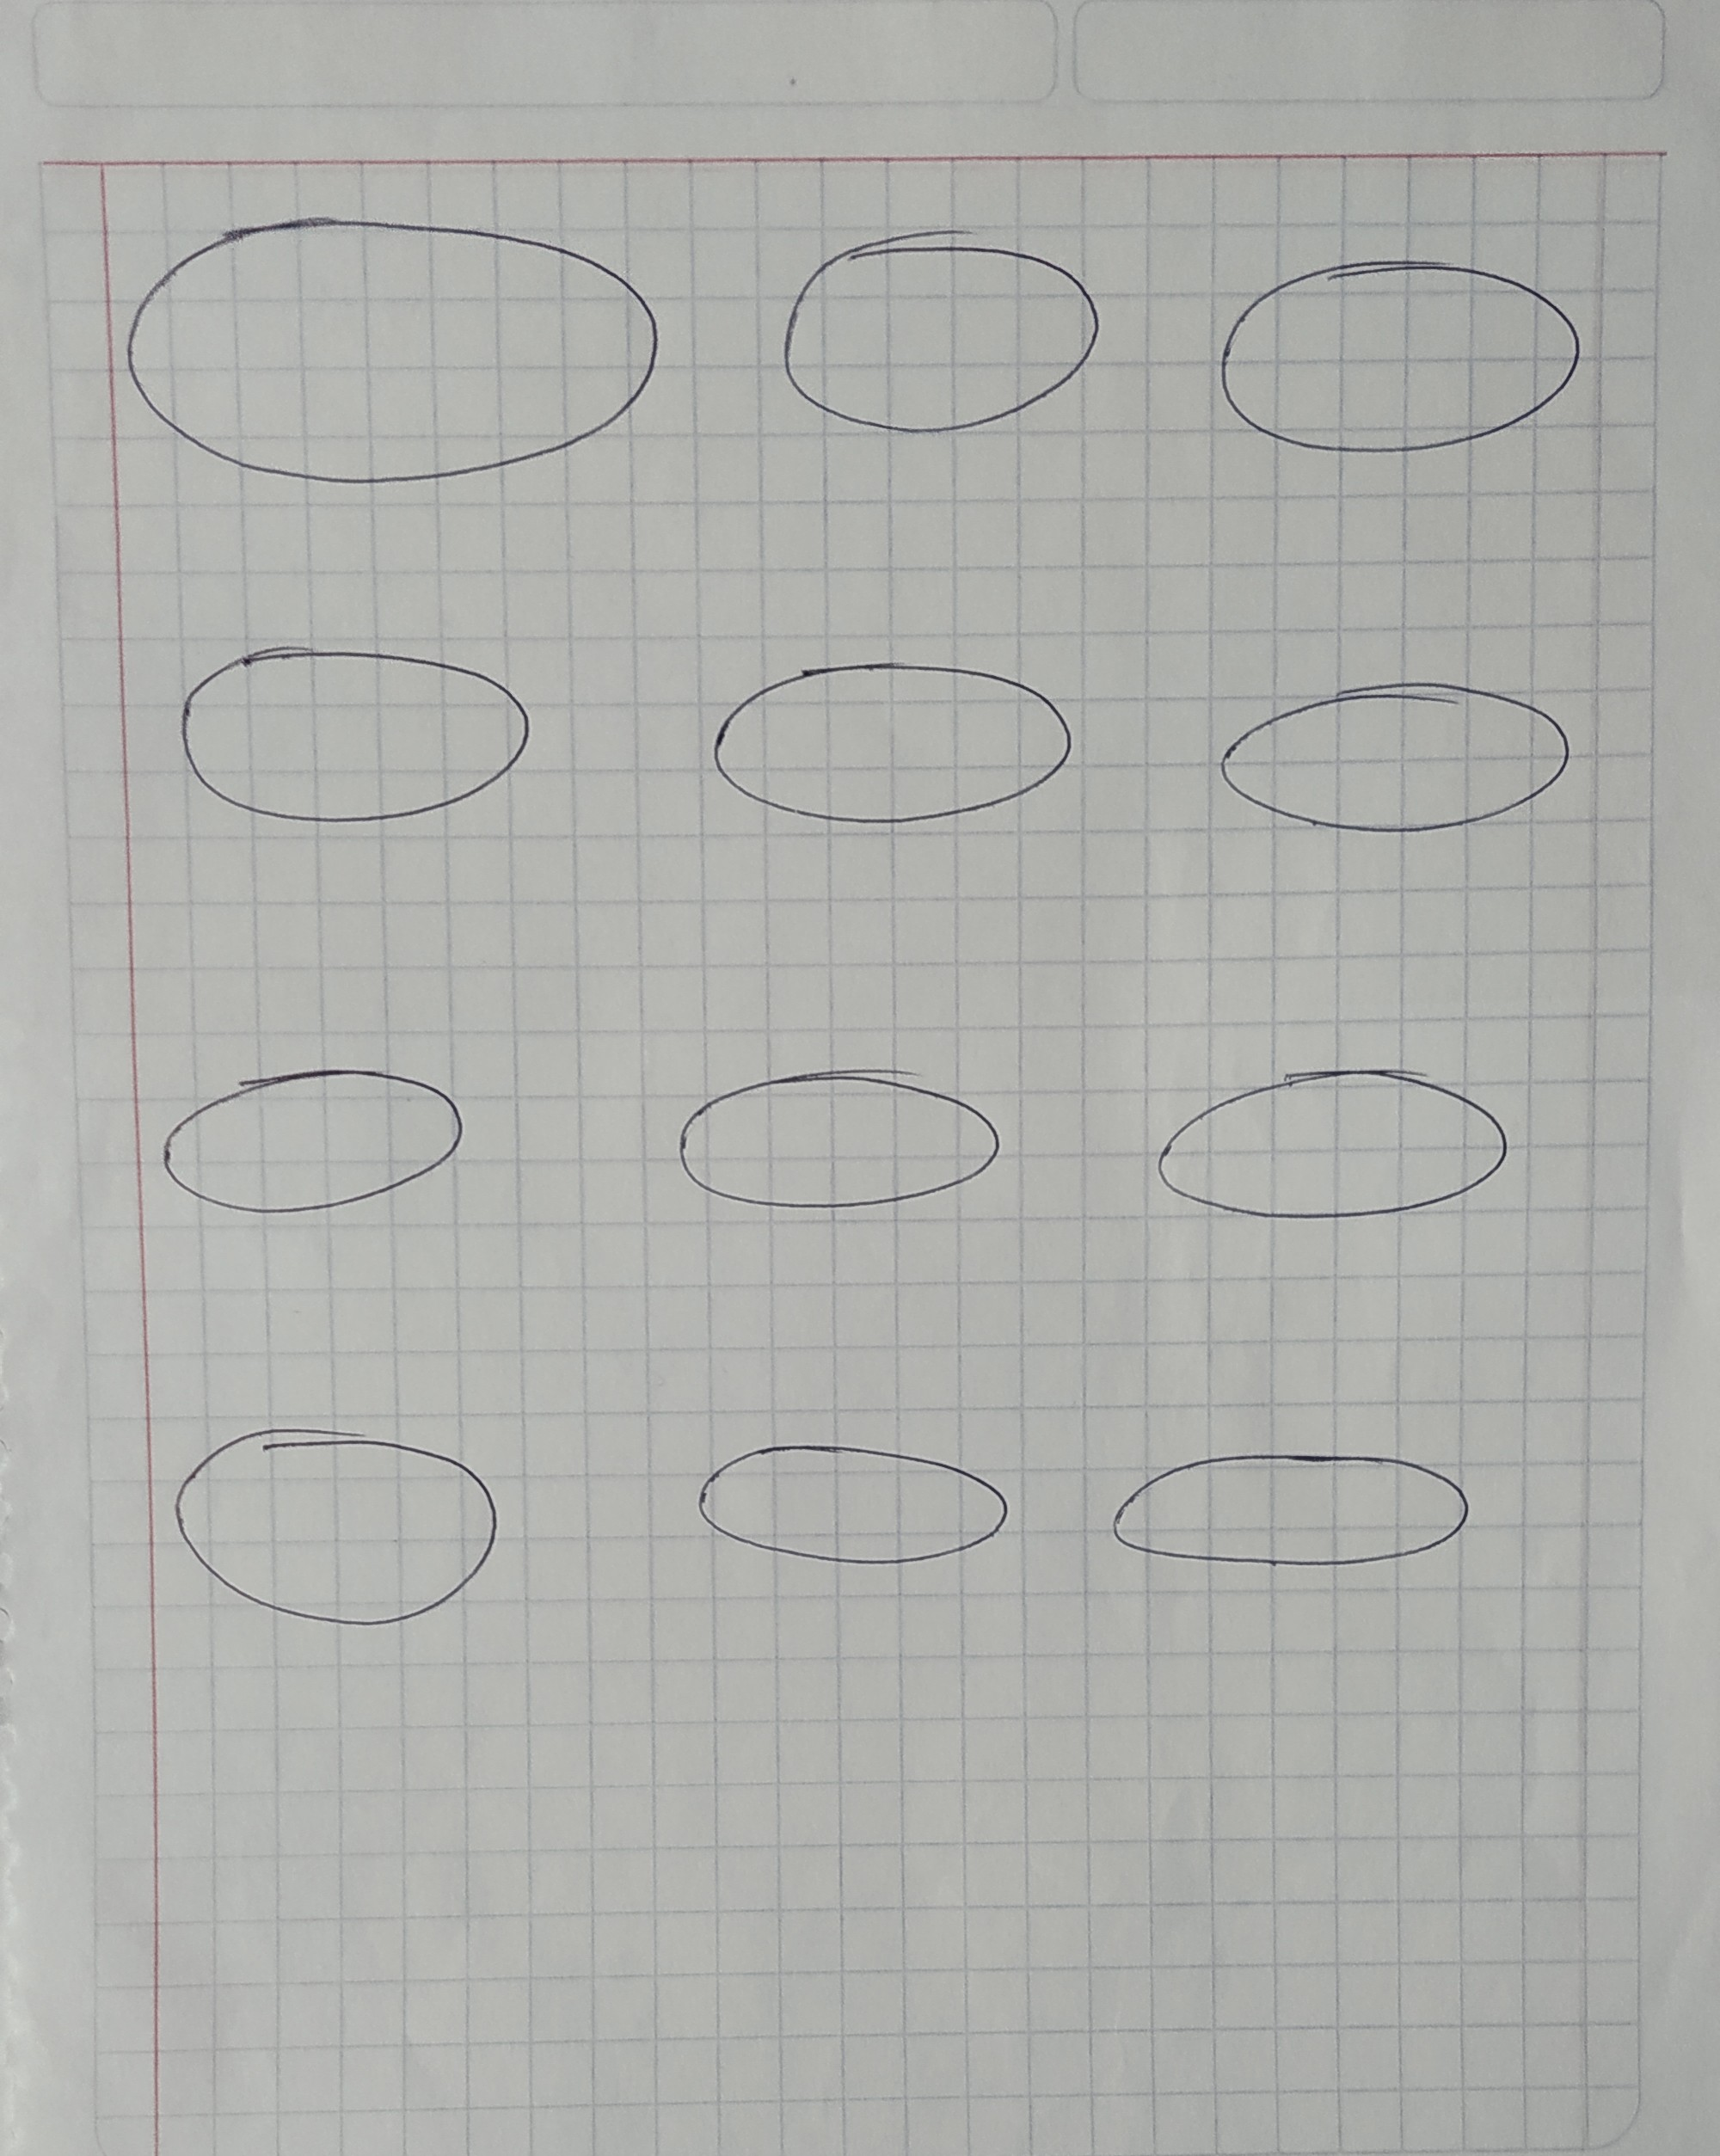start_end: (119, 209, 665, 496), (1206, 247, 1592, 467), (168, 1416, 509, 1635), (774, 233, 1111, 446), (170, 642, 535, 828), (706, 654, 1078, 832), (1215, 677, 1580, 847), (1144, 1061, 1516, 1228), (672, 1058, 1006, 1216), (158, 1060, 469, 1224), (686, 1424, 1013, 1579), (1109, 1447, 1476, 1581)
